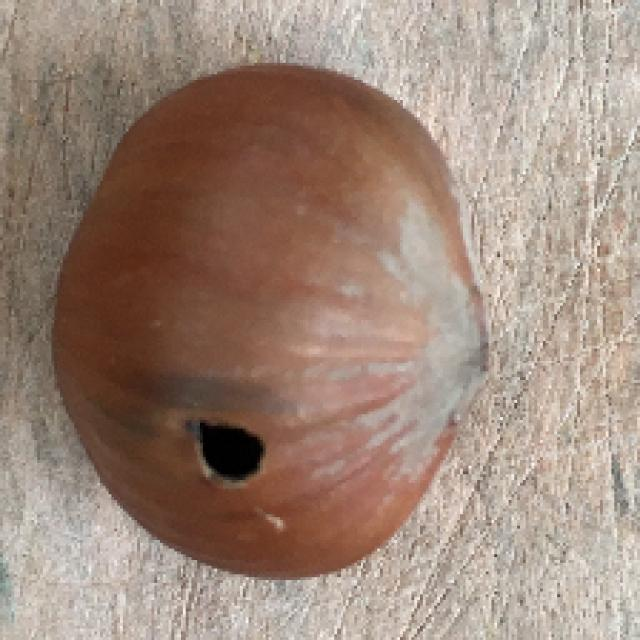damagedHazelnut: (50, 66, 499, 571)
